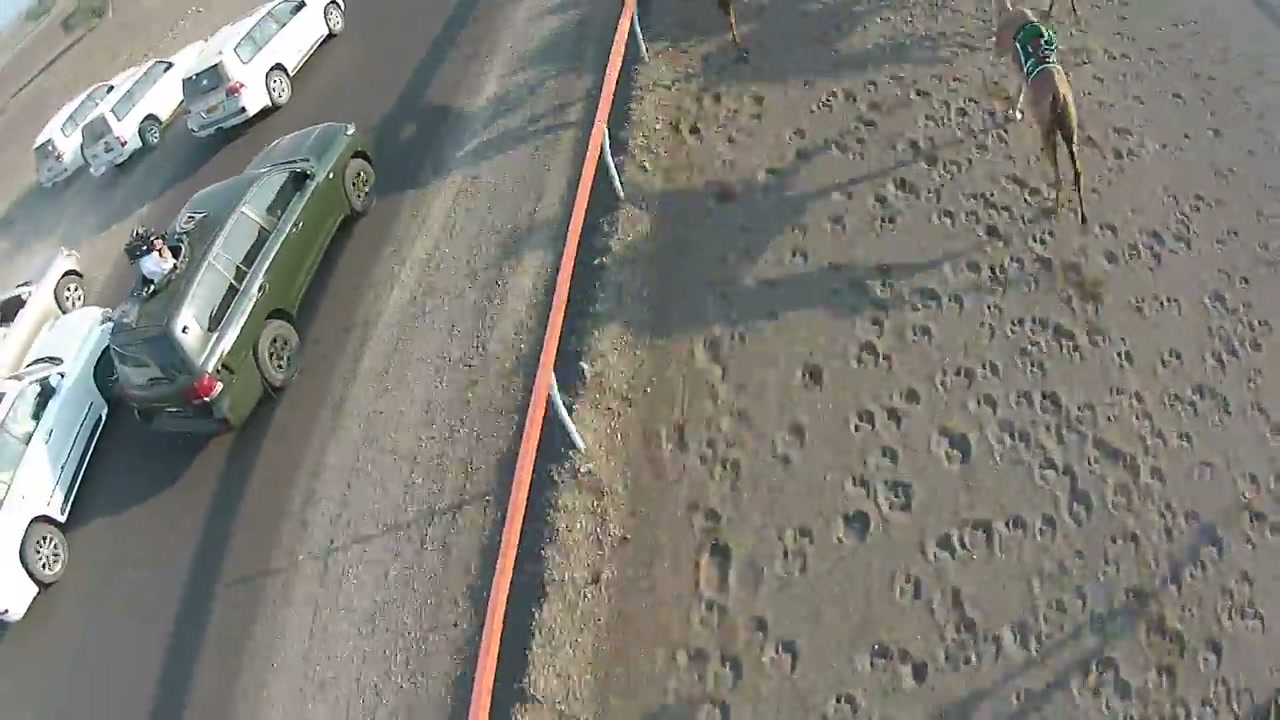animal_foot_print: (628, 0, 1279, 719), (668, 648, 743, 701), (696, 539, 733, 599), (775, 526, 814, 577), (874, 478, 917, 524), (931, 426, 973, 467), (773, 419, 807, 466), (762, 638, 799, 676), (834, 509, 875, 543), (821, 692, 868, 719), (892, 569, 926, 604)
